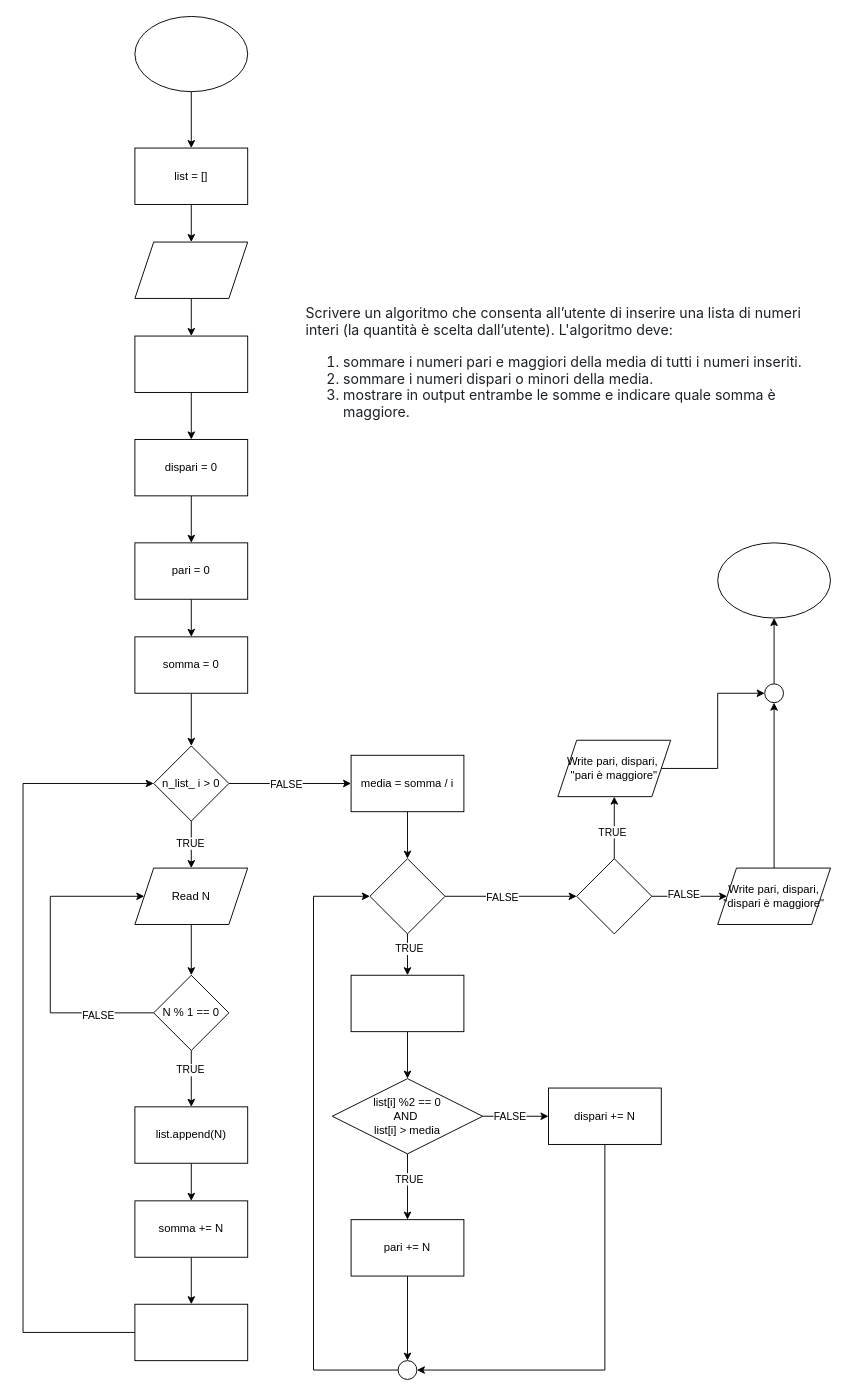
Image size: 847x1396. Some labels were removed from this diagram. The centre of each missing label's shape, as x and y in pixels:
END: [773,580]
i -= 1: [407,1003]
i = n_list_i: [191,363]
i > 0: [407,896]
n_list_i -= 1: [191,1332]
pari > dispari: [614,896]
read n_list_i: [191,269]
START: [191,54]
